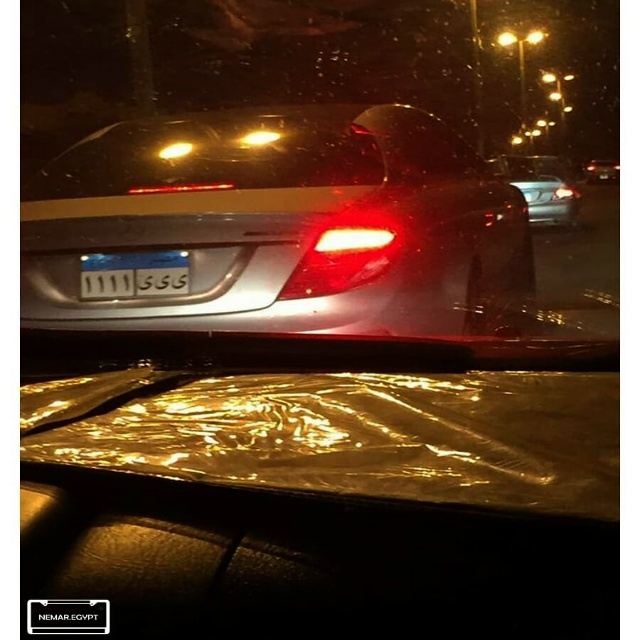License Plate: (77, 249, 193, 300)
